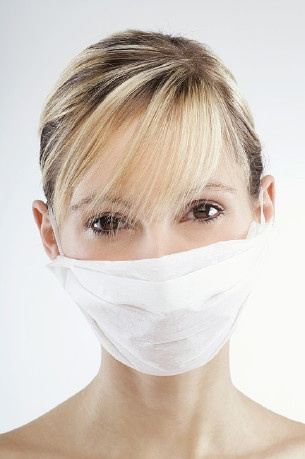Mask: (46, 170, 252, 376)
